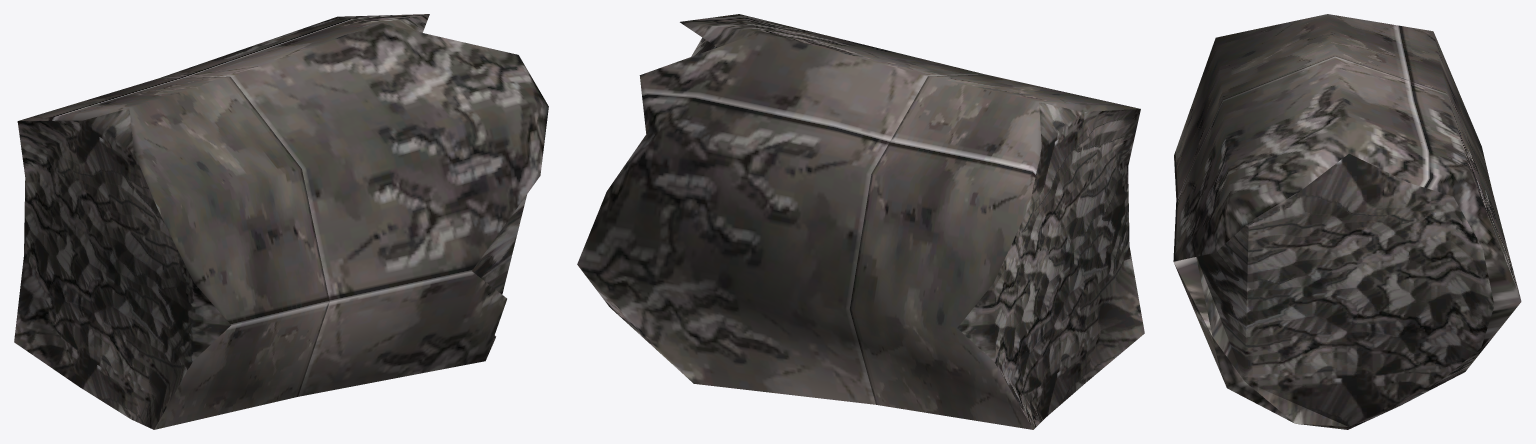
Rendered from INST_SM_COLUMN_BROKEN_PIECEB.fbx.
The picture shows the model from 3 angles, left to right: view 1: azimuth 30°, elevation 25°; view 2: azimuth 150°, elevation 25°; view 3: azimuth 270°, elevation 25°; orthographic projection. The views are drawn at different scales.
Parts seen in each view (by area): view 1: INST_SM_COLUMN_BROKEN_PIECEB; view 2: INST_SM_COLUMN_BROKEN_PIECEB; view 3: INST_SM_COLUMN_BROKEN_PIECEB.
Part boxes in pixels (x1,y1,x2,y2): INST_SM_COLUMN_BROKEN_PIECEB: (14,14,548,429); INST_SM_COLUMN_BROKEN_PIECEB: (577,14,1144,429); INST_SM_COLUMN_BROKEN_PIECEB: (1173,14,1521,429).
Size of the model in its own units: 29262 by 22609 by 23566.
Materials: 3 (3 with a texture image).
